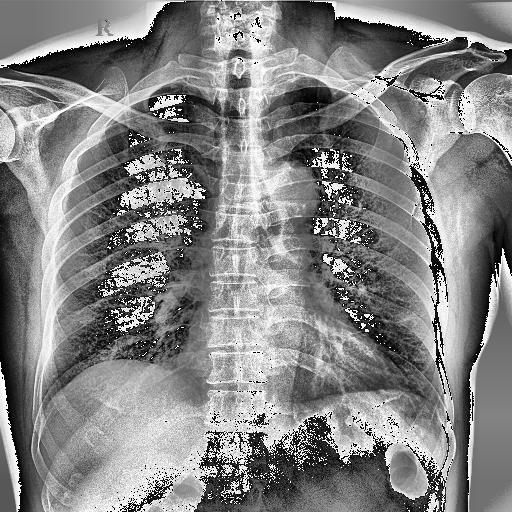13- Pulmonary fibrosis: (370, 314, 444, 394)
5- ILD: (258, 92, 452, 412), (29, 86, 214, 396), (322, 208, 436, 392), (54, 222, 196, 366)
